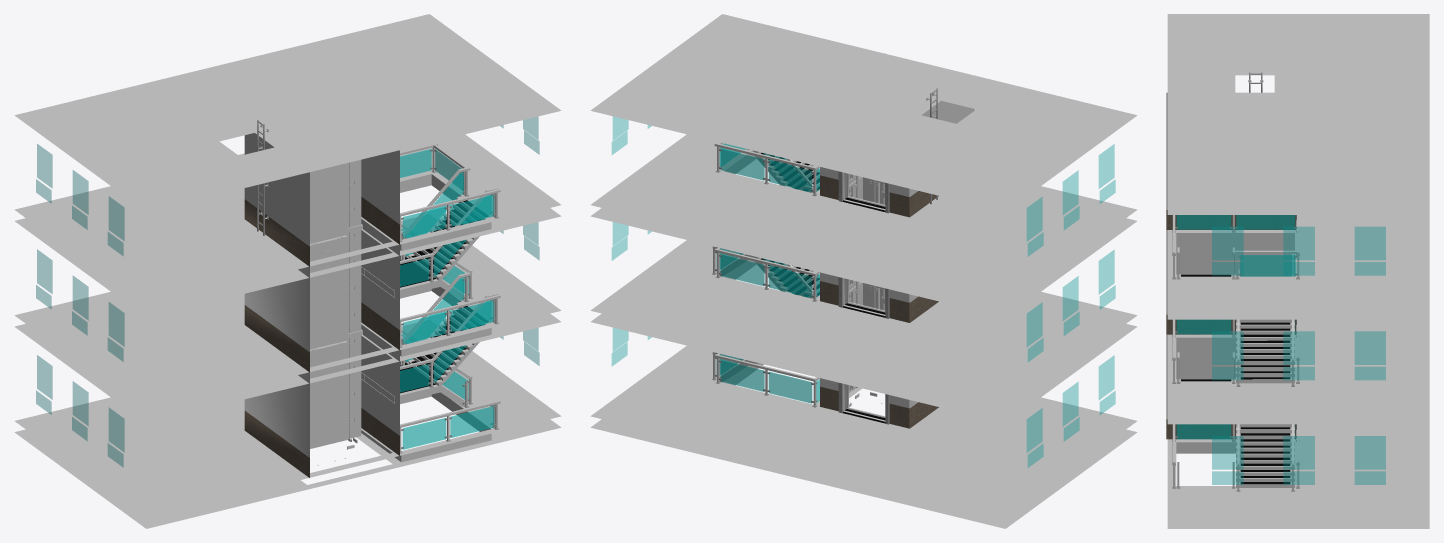
The model's file is Building07_V02_Interior02.fbx.
The picture shows the model from 3 angles, left to right: view 1: azimuth 30°, elevation 25°; view 2: azimuth 150°, elevation 25°; view 3: azimuth 270°, elevation 25°; orthographic projection.
Visible parts, largest first — view 1: SM_Building07_V02_Interior02; view 2: SM_Building07_V02_Interior02; view 3: SM_Building07_V02_Interior02.
Part boxes in pixels (left/top/right/bottom): SM_Building07_V02_Interior02: left=14, top=14, right=561, bottom=528; SM_Building07_V02_Interior02: left=590, top=14, right=1137, bottom=528; SM_Building07_V02_Interior02: left=1166, top=14, right=1429, bottom=528.
Size of the model in its own units: 1670 by 1310 by 923.
